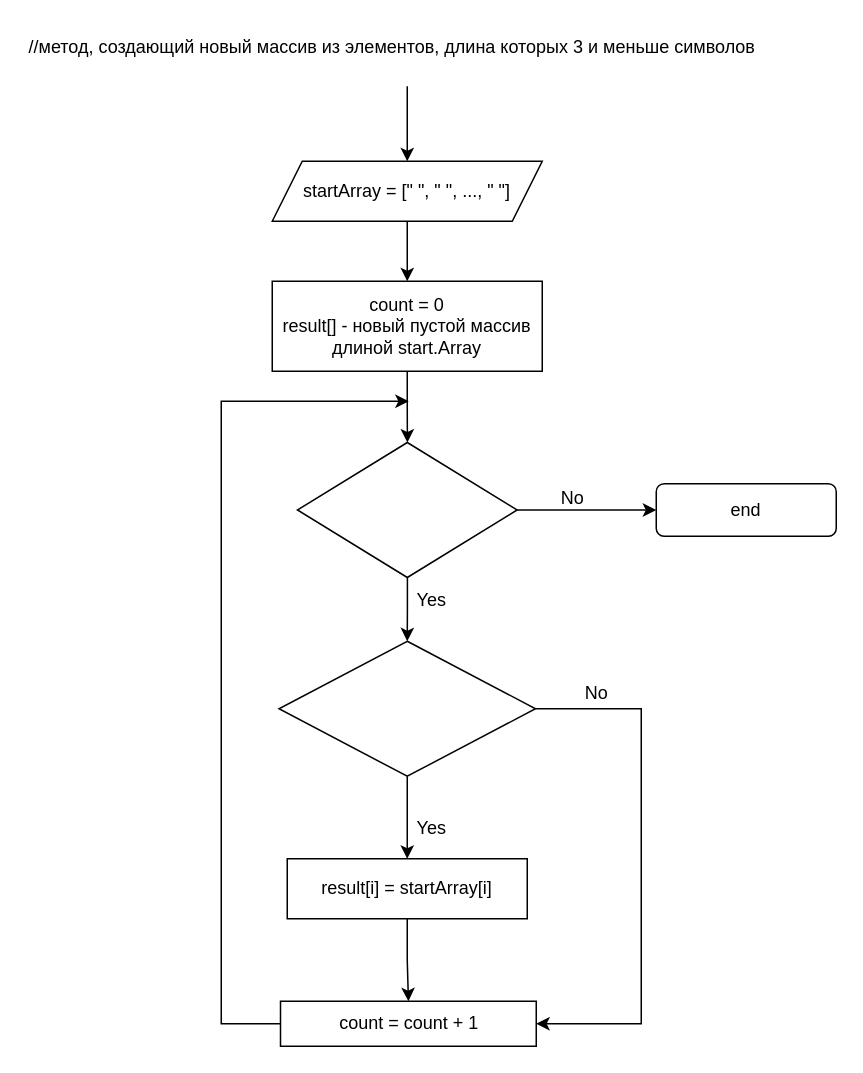
This 863x1073 diagram has some shape labels left out. Here are the shapes that lost their labels. From the top down, the box of each, then its label:
(296, 441, 517, 578): остались еще элементы массива?
(278, 640, 536, 776): длина элемента массива <=3 символа
